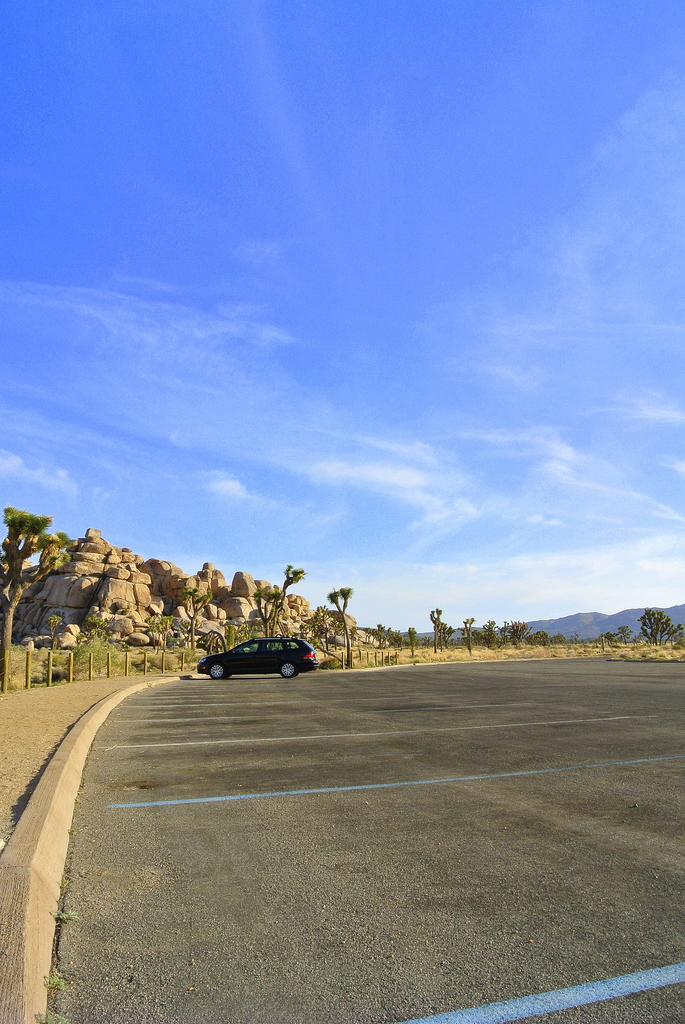mobil: (200, 634, 323, 681)
